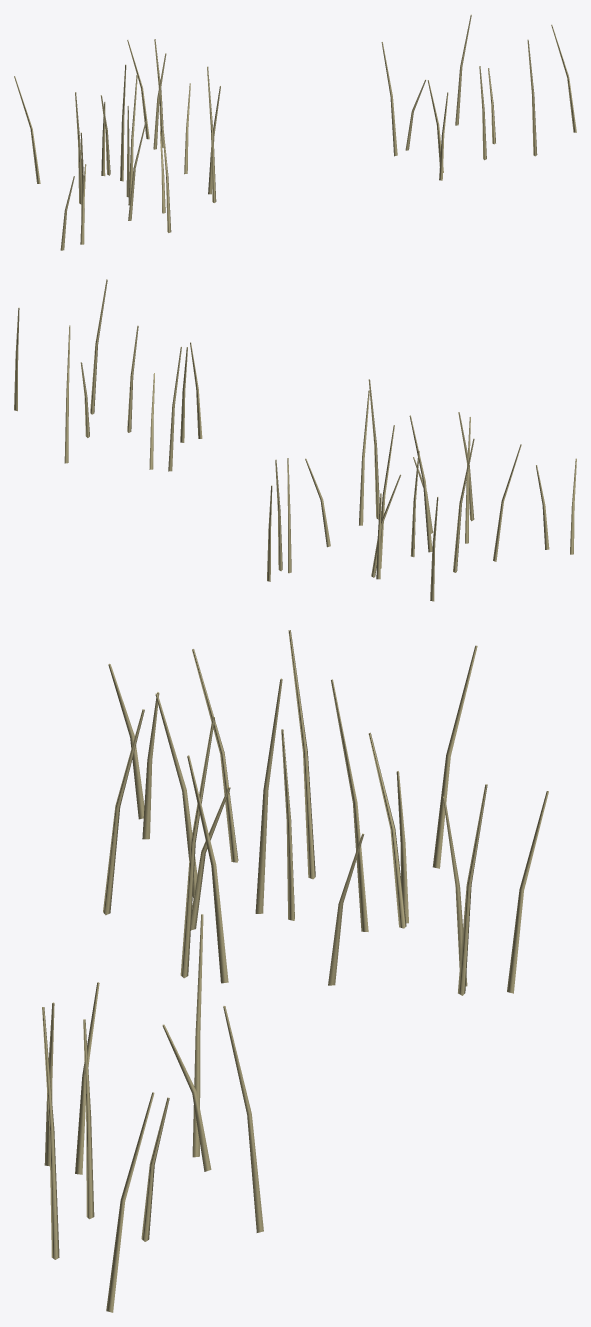
3 views of the same model, one above another, from view 1: azimuth 30°, elevation 25°; view 2: azimuth 150°, elevation 25°; view 3: azimuth 270°, elevation 25° (orthographic). The views are drawn at different scales.
Parts seen in each view (by area): view 1: p1_m1; view 2: p1_m1; view 3: p1_m1.
Part boxes in pixels (<box>): p1_m1: <box>14,14,576,250</box>; p1_m1: <box>14,279,576,601</box>; p1_m1: <box>42,630,548,1312</box>.
Size of the model in its own units: 6.61 by 1.62 by 2.85.
